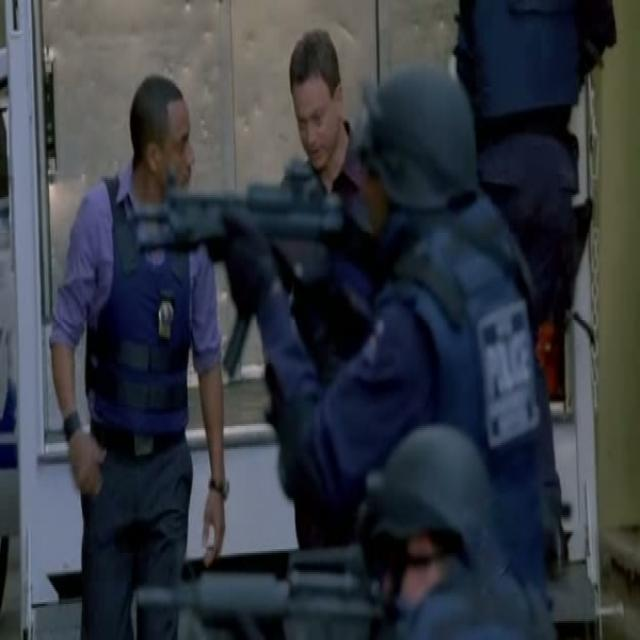rifle: (132, 167, 357, 389)
